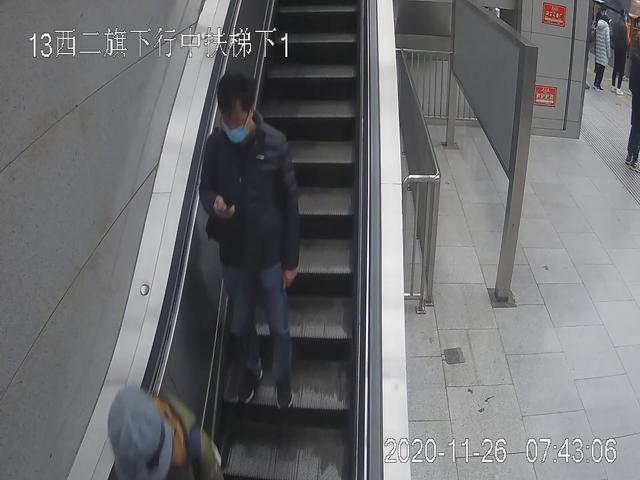person: (203, 74, 303, 410), (611, 15, 628, 95), (593, 13, 608, 89)
